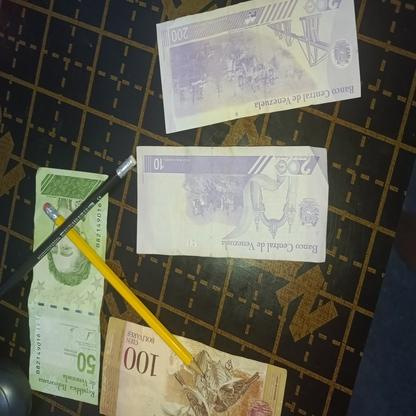fifty-front-vef: (29, 168, 108, 406)
ten-back-vef: (135, 146, 329, 262)
two_hundred-back-vef: (154, 0, 362, 135)
